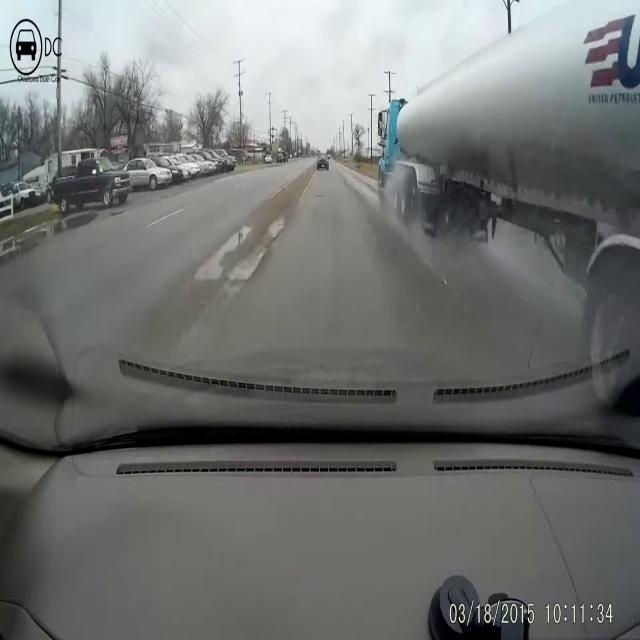pothole: (189, 198, 300, 310), (311, 183, 327, 203)
